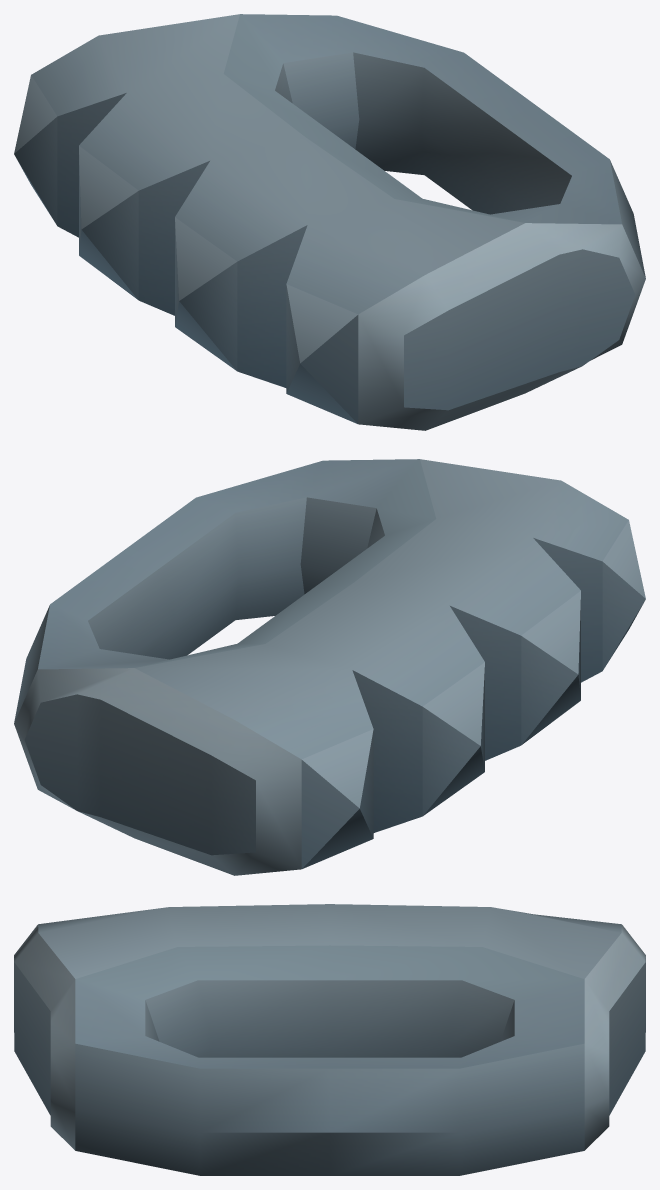
The model's file is fistweapon_A.obj.
3 views of the same model, one above another, from view 1: azimuth 30°, elevation 25°; view 2: azimuth 150°, elevation 25°; view 3: azimuth 270°, elevation 25° (orthographic). The views are drawn at different scales.
Parts seen in each view (by area): view 1: fistweapon_A; view 2: fistweapon_A; view 3: fistweapon_A.
Part boxes in pixels (bbox=[...]): fistweapon_A: bbox=[14, 14, 645, 430]; fistweapon_A: bbox=[14, 459, 645, 875]; fistweapon_A: bbox=[14, 904, 645, 1175].
Size of the model in its own units: 0.2268 by 0.0859 by 0.3233.
1 material, 1 textured.
